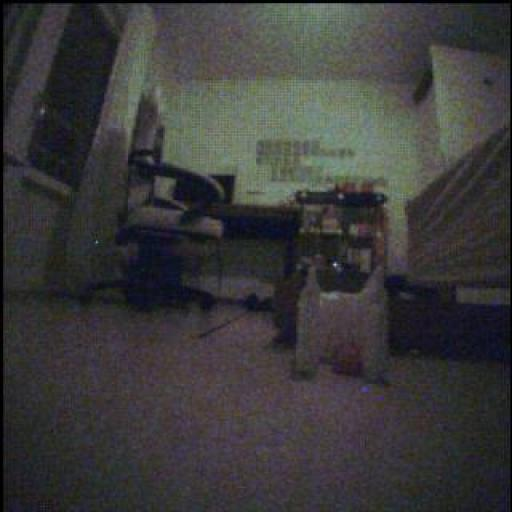basket: (331, 341, 365, 379)
